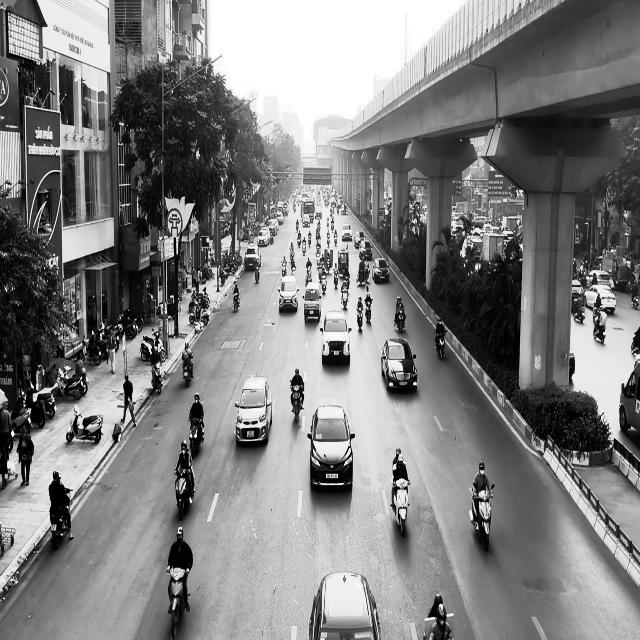car: (308, 572, 382, 640), (307, 404, 355, 490), (234, 373, 272, 445), (381, 337, 417, 392), (320, 310, 352, 364), (618, 358, 640, 434), (278, 275, 300, 312), (302, 282, 322, 322), (372, 257, 390, 283), (244, 245, 260, 270)
motorbike: (469, 484, 494, 552), (166, 566, 189, 639), (66, 404, 103, 443), (49, 489, 73, 549), (390, 476, 410, 536), (174, 466, 194, 520), (188, 416, 205, 458), (290, 381, 304, 423), (592, 307, 607, 344), (150, 360, 163, 395), (435, 327, 447, 360), (182, 355, 194, 388), (394, 307, 406, 332), (356, 305, 363, 330), (233, 292, 240, 312), (254, 266, 260, 284)
